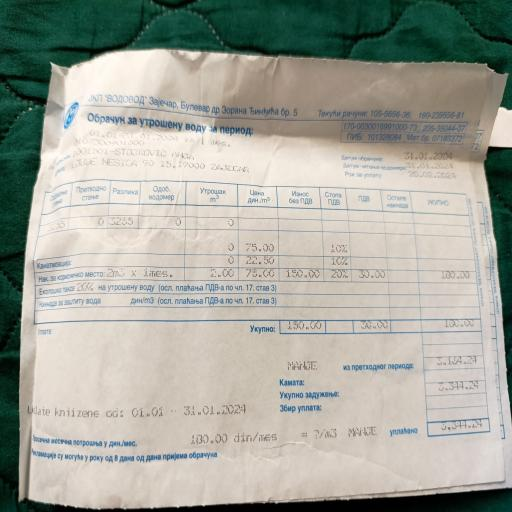voda: (275, 372, 489, 416)
